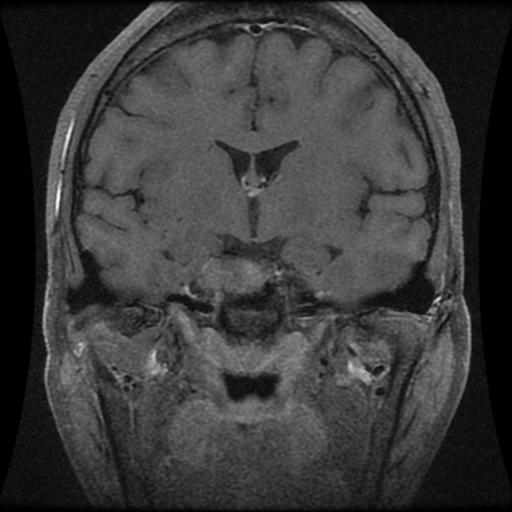Pituirity_tumour: (200, 256, 272, 295)
